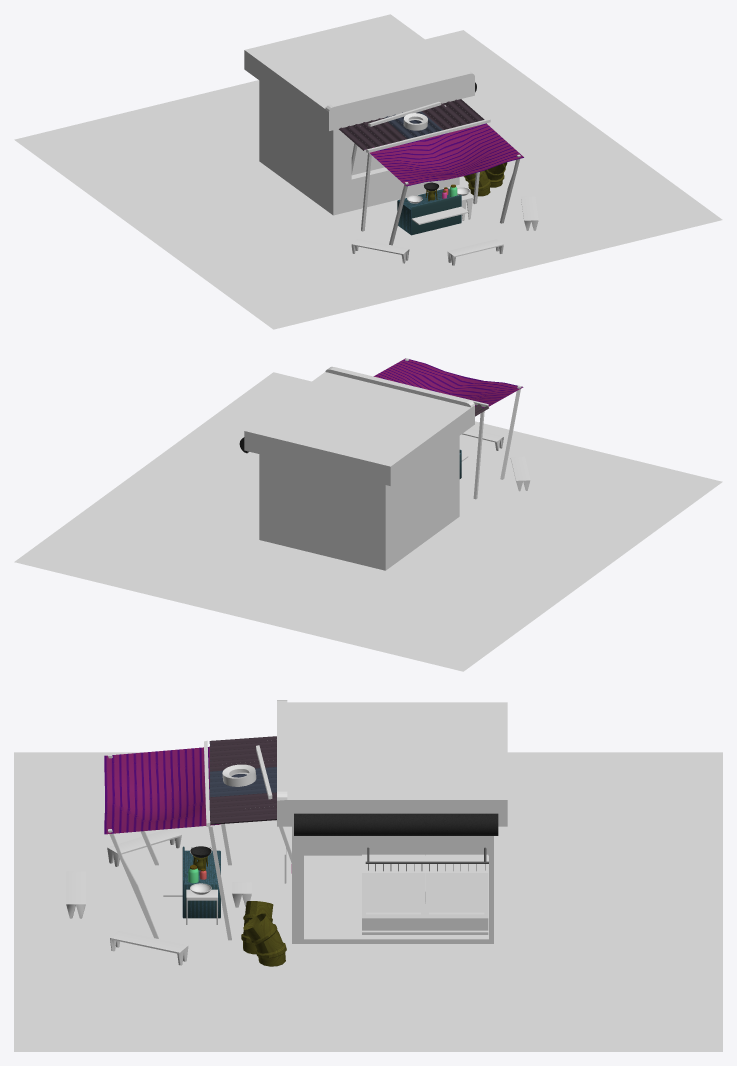
File: ChaiWalaShop.fbx
3 renders of one model, top to bottom at view 1: azimuth 30°, elevation 25°; view 2: azimuth 150°, elevation 25°; view 3: azimuth 270°, elevation 25°, orthographic. The views are drawn at different scales.
Parts seen in each view (by area): view 1: Plane.002, Cube, Plane.001, Cube.017, Plane, Cube.008, BezierCurve.003; view 2: Plane.002, Cube, Plane.001, Cube.017; view 3: Plane.002, Cube, Cube.017, Plane.001, Plane, Sphere, Cube.024, BezierCurve.003, Cube.008, Cylinder.013, Cylinder.014.
Boxes of the visible parts, <box> form: Plane.002: <box>14,30,722,329</box>; Cube: <box>244,14,474,215</box>; Plane.001: <box>365,123,523,186</box>; Cube.017: <box>351,101,538,265</box>; Plane: <box>339,99,484,150</box>; Cube.008: <box>397,188,461,235</box>; BezierCurve.003: <box>464,162,507,196</box>; Plane.002: <box>14,372,722,671</box>; Cube: <box>244,366,474,570</box>; Plane.001: <box>373,358,523,407</box>; Cube.017: <box>405,358,530,499</box>; Plane.002: <box>14,752,722,1051</box>; Cube: <box>277,700,507,943</box>; Cube.017: <box>66,740,488,965</box>; Plane.001: <box>104,747,220,834</box>; Plane: <box>209,736,276,824</box>; Sphere: <box>190,813,498,857</box>; Cube.024: <box>366,877,484,912</box>; BezierCurve.003: <box>241,901,286,966</box>; Cube.008: <box>182,846,220,918</box>; Cylinder.013: <box>222,764,256,786</box>; Cylinder.014: <box>365,847,488,871</box>.
Bounding box in the file's own units: 1452 × 358 × 1452.
17 materials, 8 textured.
